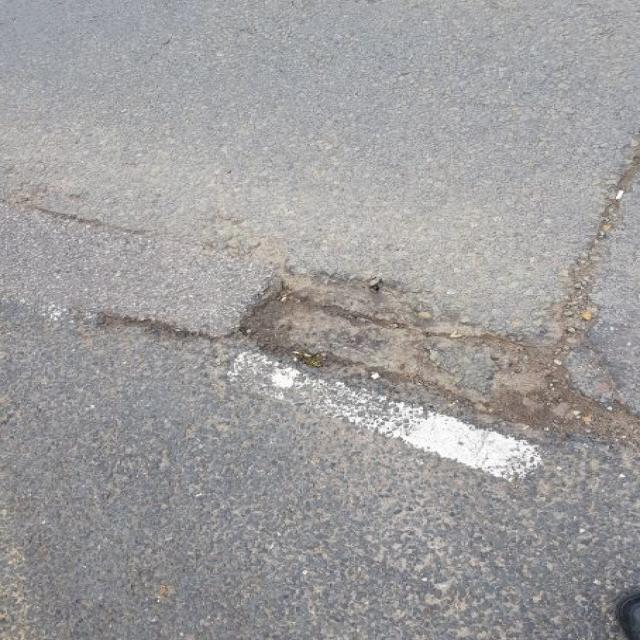pothole: (228, 259, 640, 451)
